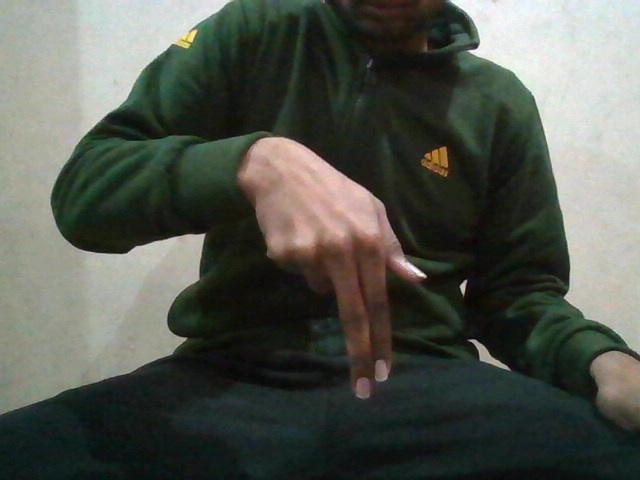Q: (247, 170, 432, 400)
